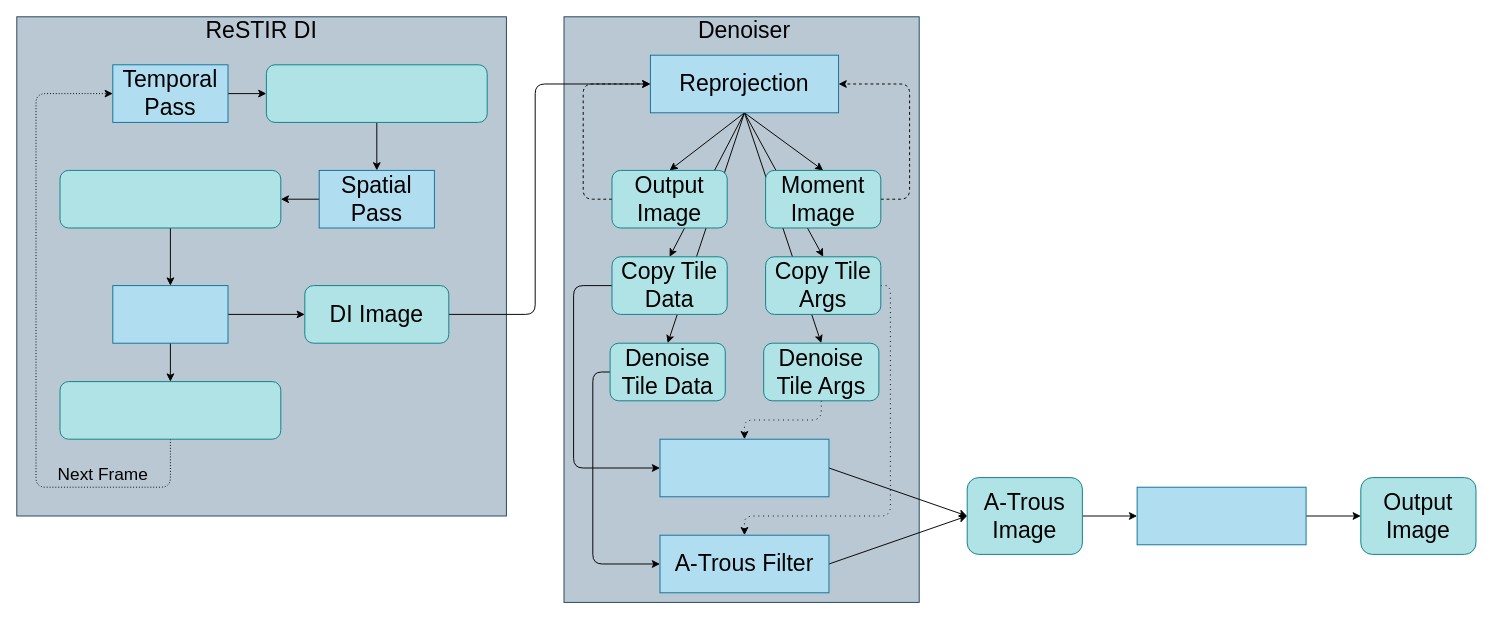
This 1493x619 diagram has some shape labels left out. Here are the shapes that lost their labels. From the top down, the box of each, then its label:
(265, 64, 487, 122): Passthrough Reservoir Buffer
(59, 169, 281, 228): Spatial Reservoir Buffer
(112, 285, 228, 343): Composite Pass
(59, 381, 281, 439): Temporal Reservoir Buffer
(659, 438, 829, 497): Copy Tiles
(1136, 486, 1306, 545): Upsampling
